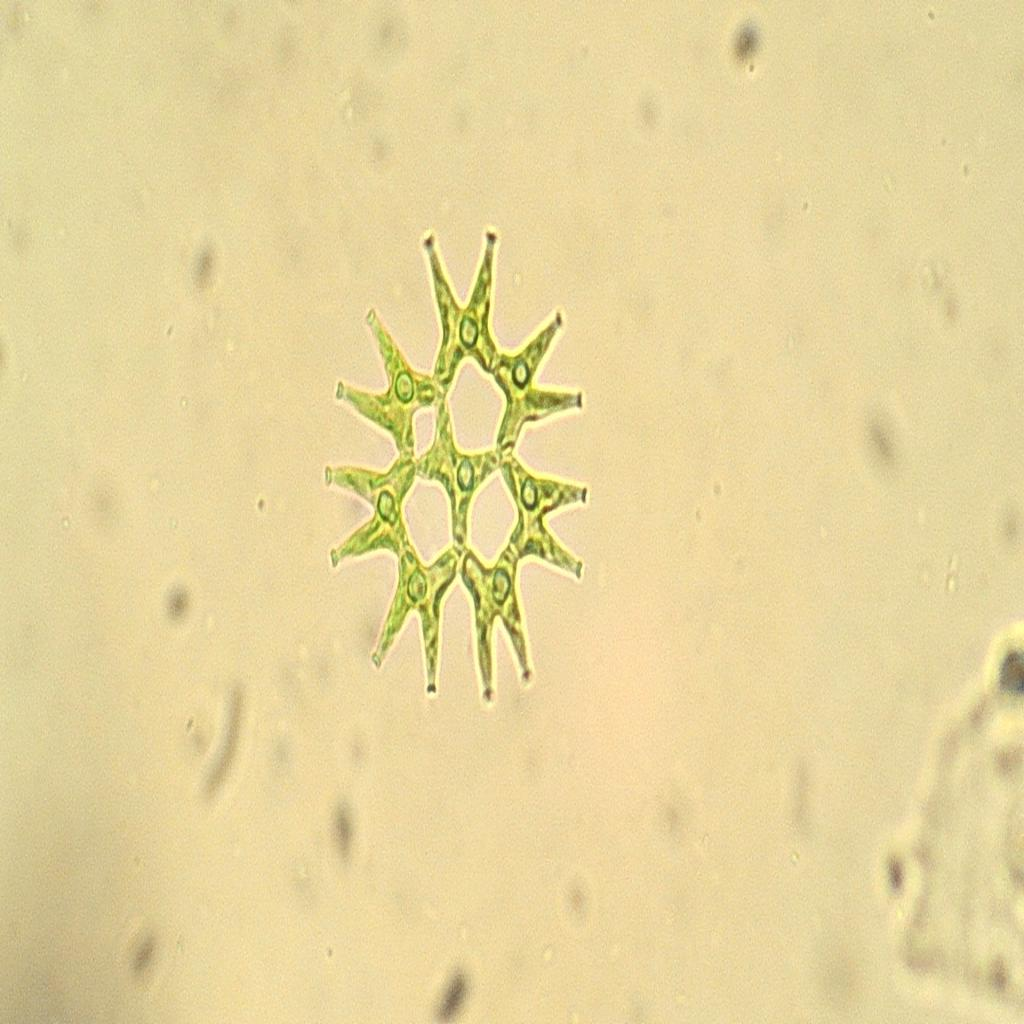Pediastrum_CTH: (318, 184, 593, 714)
